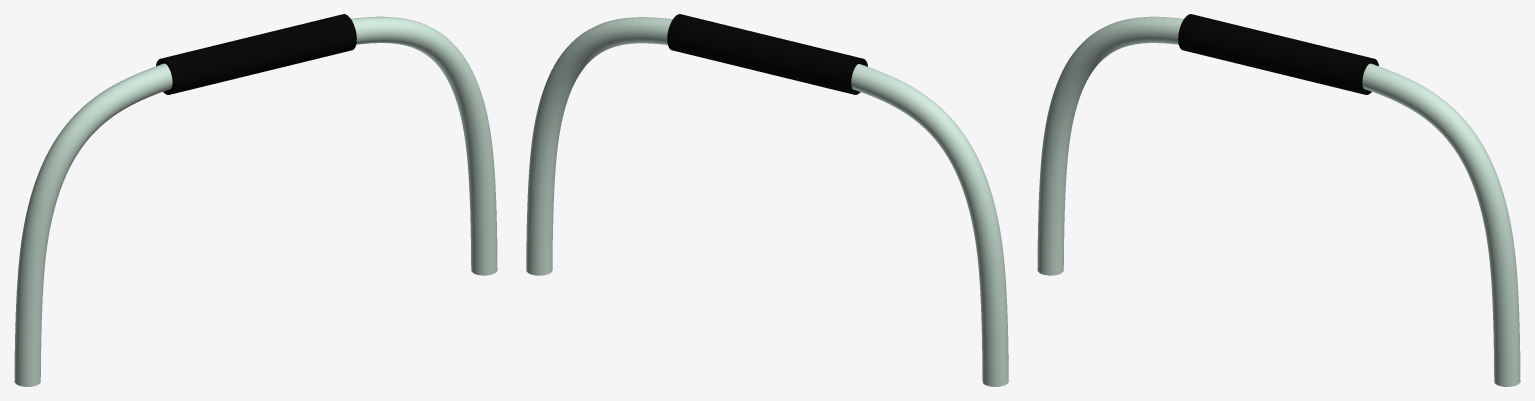
The model's file is Dip Bar01.fbx.
The picture shows the model from 3 angles, left to right: view 1: azimuth 30°, elevation 25°; view 2: azimuth 150°, elevation 25°; view 3: azimuth 330°, elevation 25°; orthographic projection.
Parts seen in each view (by area): view 1: NurbsCircle.001, Cylinder.001; view 2: NurbsCircle.001, Cylinder.001; view 3: NurbsCircle.001, Cylinder.001.
Boxes of the visible parts, <box> form: NurbsCircle.001: <box>14,16,497,386</box>; Cylinder.001: <box>156,14,356,94</box>; NurbsCircle.001: <box>526,17,1008,386</box>; Cylinder.001: <box>667,14,867,94</box>; NurbsCircle.001: <box>1037,16,1520,386</box>; Cylinder.001: <box>1178,14,1378,94</box>.
Size of the model in its own units: 231 by 133 by 15.62.
